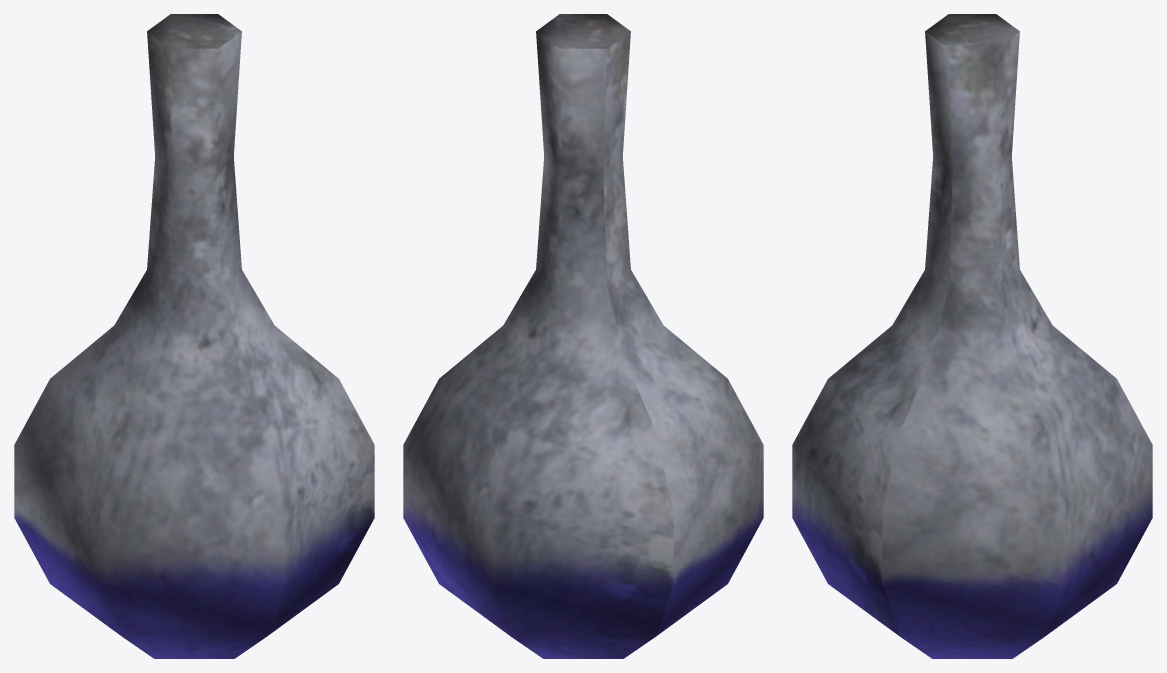
File: acid_machine_bottle02.dae
The picture shows the model from 3 angles, left to right: view 1: azimuth 30°, elevation 25°; view 2: azimuth 150°, elevation 25°; view 3: azimuth 270°, elevation 25°; orthographic projection.
Parts seen in each view (by area): view 1: acid_machine_bottle02; view 2: acid_machine_bottle02; view 3: acid_machine_bottle02.
Boxes of the visible parts, x1,y1,x2,y2 form: acid_machine_bottle02: [14, 14, 374, 658]; acid_machine_bottle02: [403, 14, 763, 658]; acid_machine_bottle02: [792, 14, 1152, 658].
Bounding box in the file's own units: 0.2038 × 0.2353 × 0.4413.
1 material, 1 textured.
